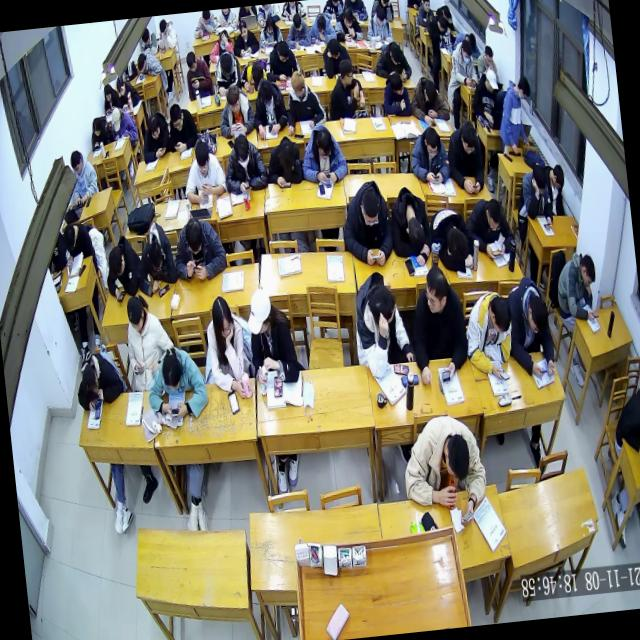bow: (501, 270, 557, 380), (142, 341, 210, 424), (130, 219, 181, 303), (386, 182, 434, 270), (70, 346, 124, 414), (463, 193, 515, 262), (428, 203, 476, 276), (101, 233, 145, 304), (407, 73, 451, 128), (263, 134, 305, 190), (371, 36, 414, 82), (138, 108, 172, 166), (210, 48, 242, 95), (320, 34, 352, 78), (237, 56, 268, 94), (306, 8, 336, 46), (207, 27, 234, 63), (135, 48, 162, 78), (191, 10, 217, 38), (139, 26, 160, 56), (436, 1, 455, 31)
down: (441, 430, 473, 482), (524, 291, 550, 337), (210, 294, 234, 342), (159, 350, 184, 394), (488, 292, 514, 334), (358, 187, 381, 228), (183, 213, 205, 254), (144, 238, 167, 274), (192, 139, 212, 179), (458, 120, 479, 158), (125, 296, 146, 334), (578, 252, 598, 290), (276, 138, 297, 174), (107, 244, 128, 280), (79, 363, 100, 399), (232, 132, 252, 168), (484, 198, 504, 234), (530, 163, 548, 197), (257, 78, 276, 109), (224, 84, 243, 115), (422, 126, 439, 160), (61, 221, 78, 253), (218, 50, 234, 80), (422, 78, 438, 108), (168, 102, 184, 132), (146, 112, 162, 142), (550, 162, 566, 192), (68, 148, 84, 177), (484, 66, 499, 95), (459, 37, 474, 64), (249, 61, 265, 85), (275, 40, 291, 64), (374, 1, 388, 28), (387, 42, 403, 65), (110, 106, 124, 132), (327, 37, 342, 61), (340, 4, 354, 28), (185, 50, 198, 74), (482, 44, 494, 68), (136, 50, 148, 72), (263, 12, 275, 34), (290, 10, 302, 32), (436, 13, 448, 34), (91, 117, 102, 139), (115, 76, 126, 98), (218, 30, 230, 50), (316, 16, 328, 36), (237, 18, 248, 39), (102, 82, 112, 102), (140, 27, 150, 46), (158, 18, 168, 36), (465, 75, 477, 90), (440, 4, 450, 22)
lookup: (421, 0, 431, 12)
sit: (397, 408, 492, 531), (403, 261, 472, 387), (348, 267, 416, 381), (244, 283, 302, 388), (122, 289, 178, 395), (336, 175, 396, 270), (202, 291, 252, 403), (461, 288, 518, 385), (169, 212, 228, 284), (552, 248, 602, 326), (492, 70, 536, 156), (296, 120, 350, 188), (443, 116, 488, 196), (180, 135, 229, 207), (220, 130, 269, 196), (280, 66, 327, 134), (406, 122, 453, 186), (324, 56, 368, 120), (248, 76, 290, 142), (214, 82, 257, 142), (519, 161, 555, 232), (609, 388, 640, 452), (469, 67, 502, 127), (164, 98, 199, 154), (67, 147, 100, 206), (262, 37, 302, 84), (182, 47, 214, 101), (379, 70, 412, 120), (449, 36, 479, 90), (542, 158, 569, 216), (60, 220, 94, 266), (282, 8, 312, 51), (362, 1, 392, 44), (332, 3, 364, 43), (109, 105, 138, 146), (230, 18, 260, 57), (426, 11, 452, 56), (256, 13, 284, 49), (86, 113, 112, 151), (114, 75, 140, 112), (475, 43, 498, 80), (156, 16, 178, 52), (100, 80, 121, 114), (415, 0, 435, 26)
